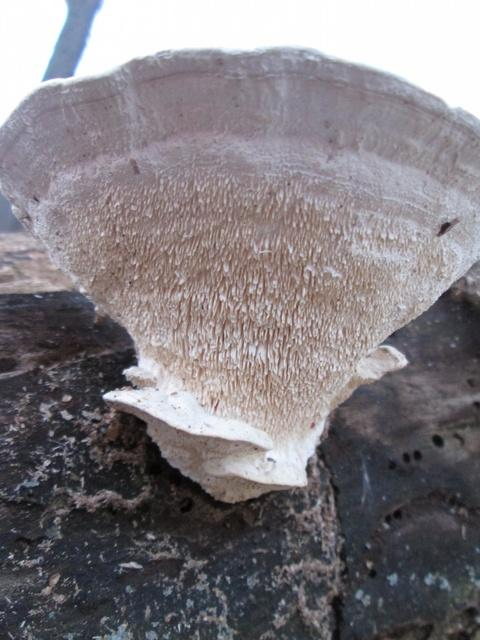Non-edible Mushroom: (0, 43, 479, 504)
